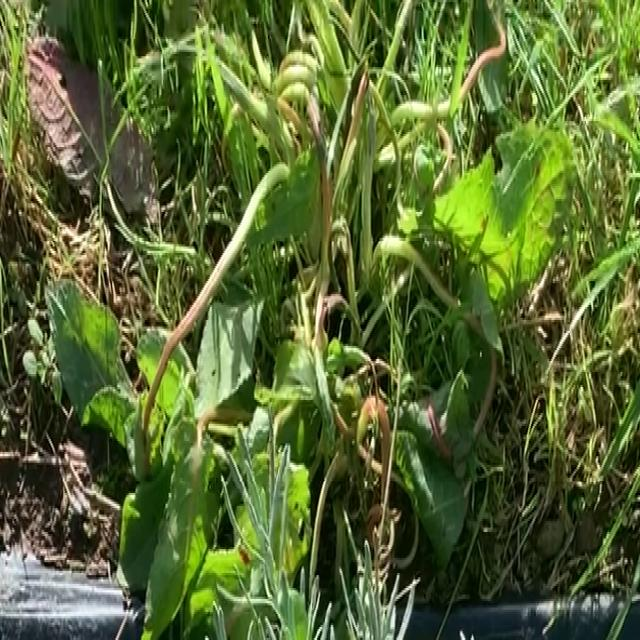organic waste: (31, 0, 604, 640)
